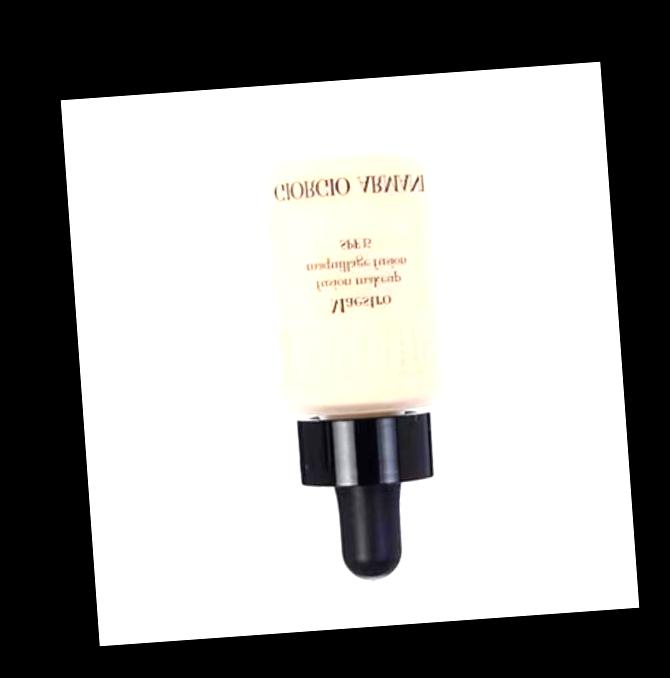cosmetic: (236, 120, 475, 588)
